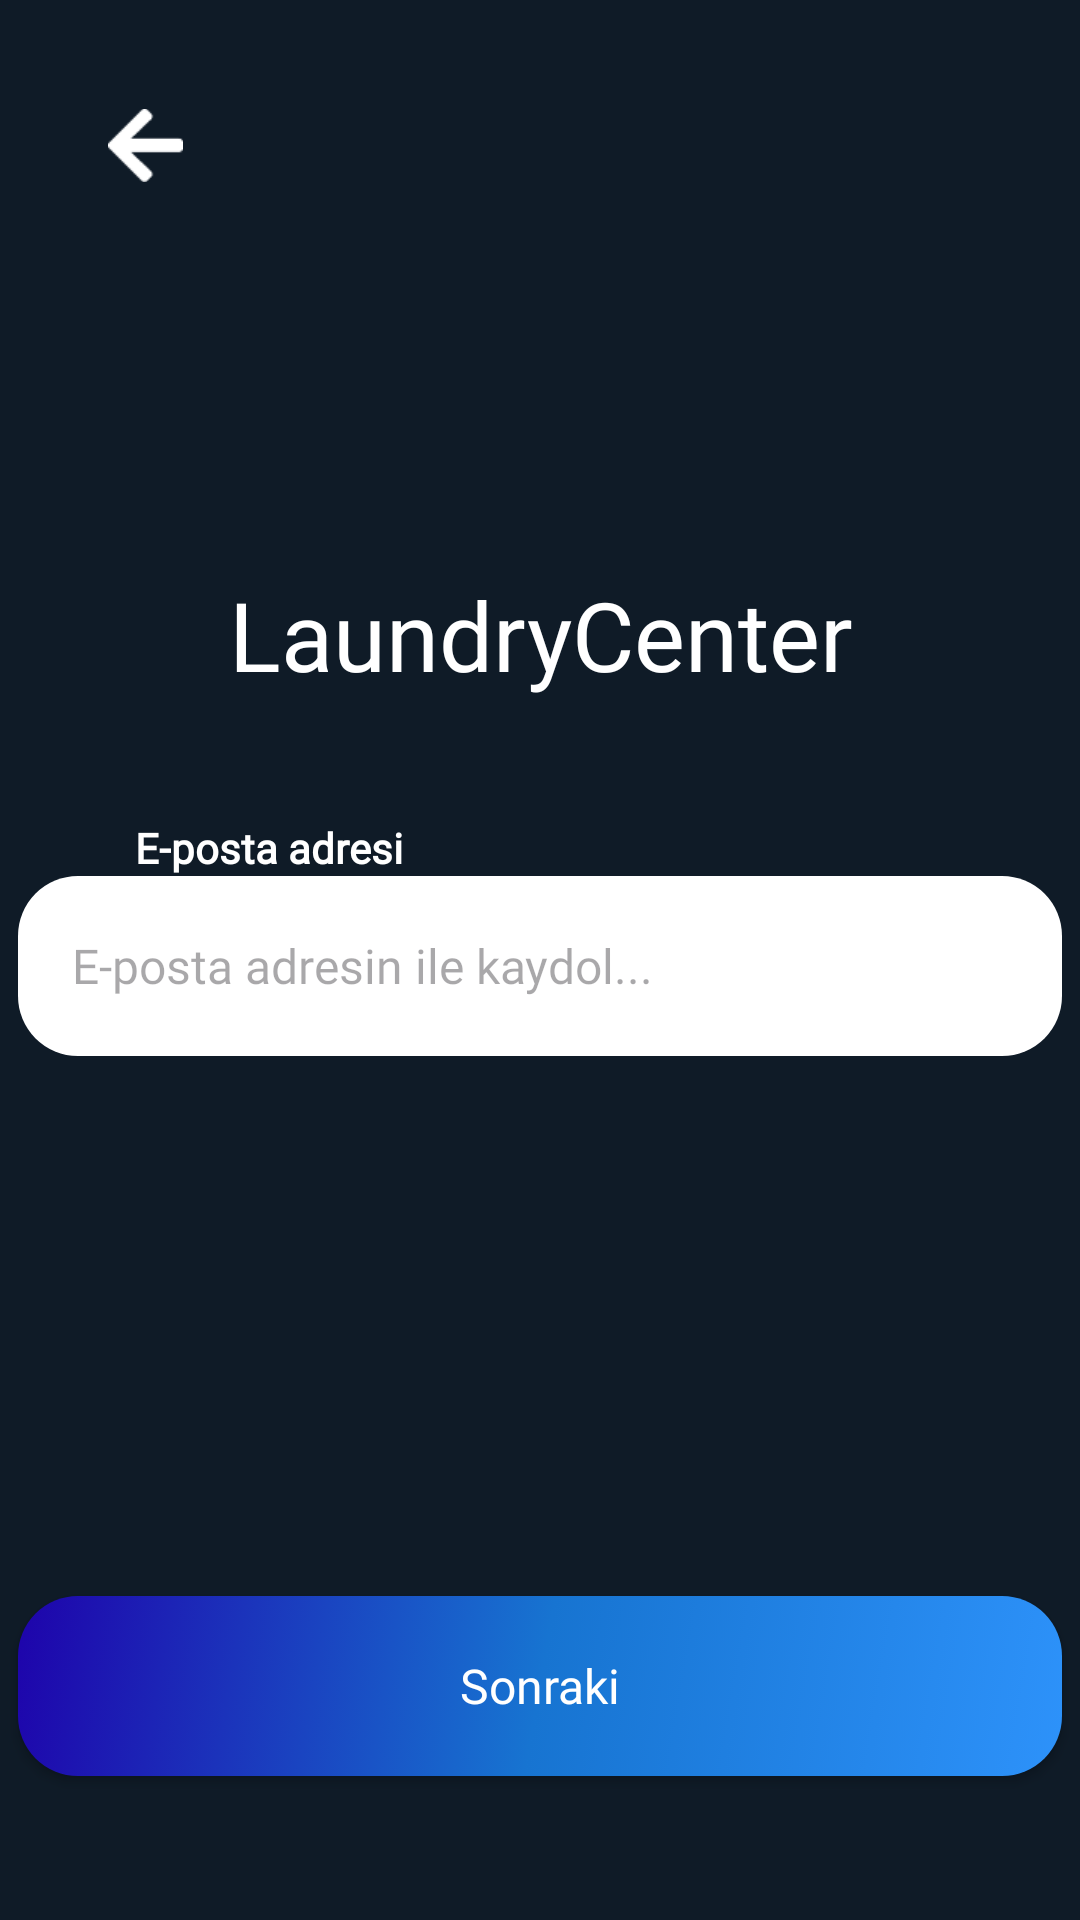

Where to tap for icons on this 1080 × 1920 app screen, as (x,y):
back: (145,145)
